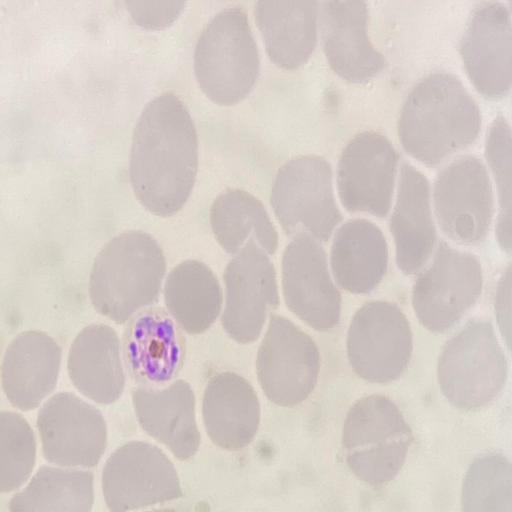Infected: (125, 314, 180, 382)
Uninfected: (128, 93, 200, 221), (400, 68, 484, 168), (90, 228, 165, 325), (253, 306, 323, 405), (221, 228, 279, 342), (411, 245, 485, 331), (436, 321, 504, 414), (344, 397, 413, 488), (196, 8, 262, 103), (271, 155, 344, 240), (280, 233, 341, 334), (130, 381, 204, 462), (102, 439, 184, 512), (349, 297, 414, 383), (320, 0, 385, 85), (37, 393, 106, 471), (390, 164, 438, 276), (210, 189, 279, 266), (339, 130, 399, 217), (434, 156, 496, 240), (2, 328, 59, 414), (202, 371, 263, 448), (68, 327, 127, 405), (331, 220, 393, 294), (258, 0, 321, 72), (168, 260, 222, 337)
